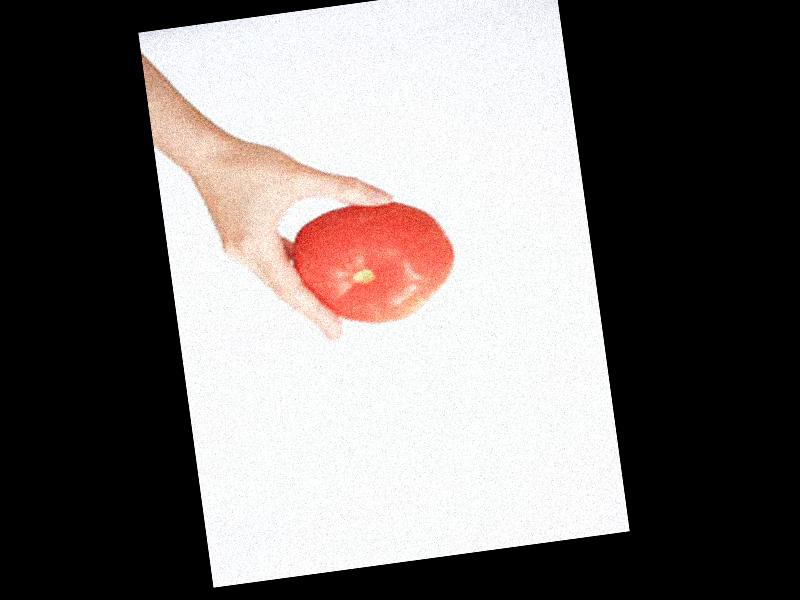Tomato: (291, 193, 460, 333)
